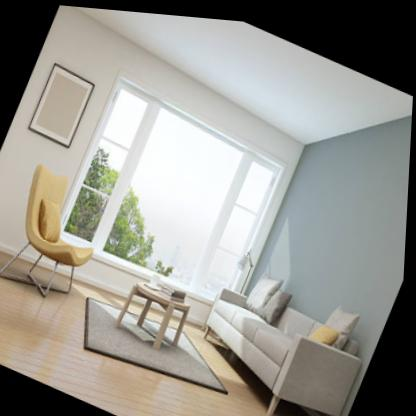Frame: (29, 65, 95, 148)
Window: (58, 63, 291, 316)
